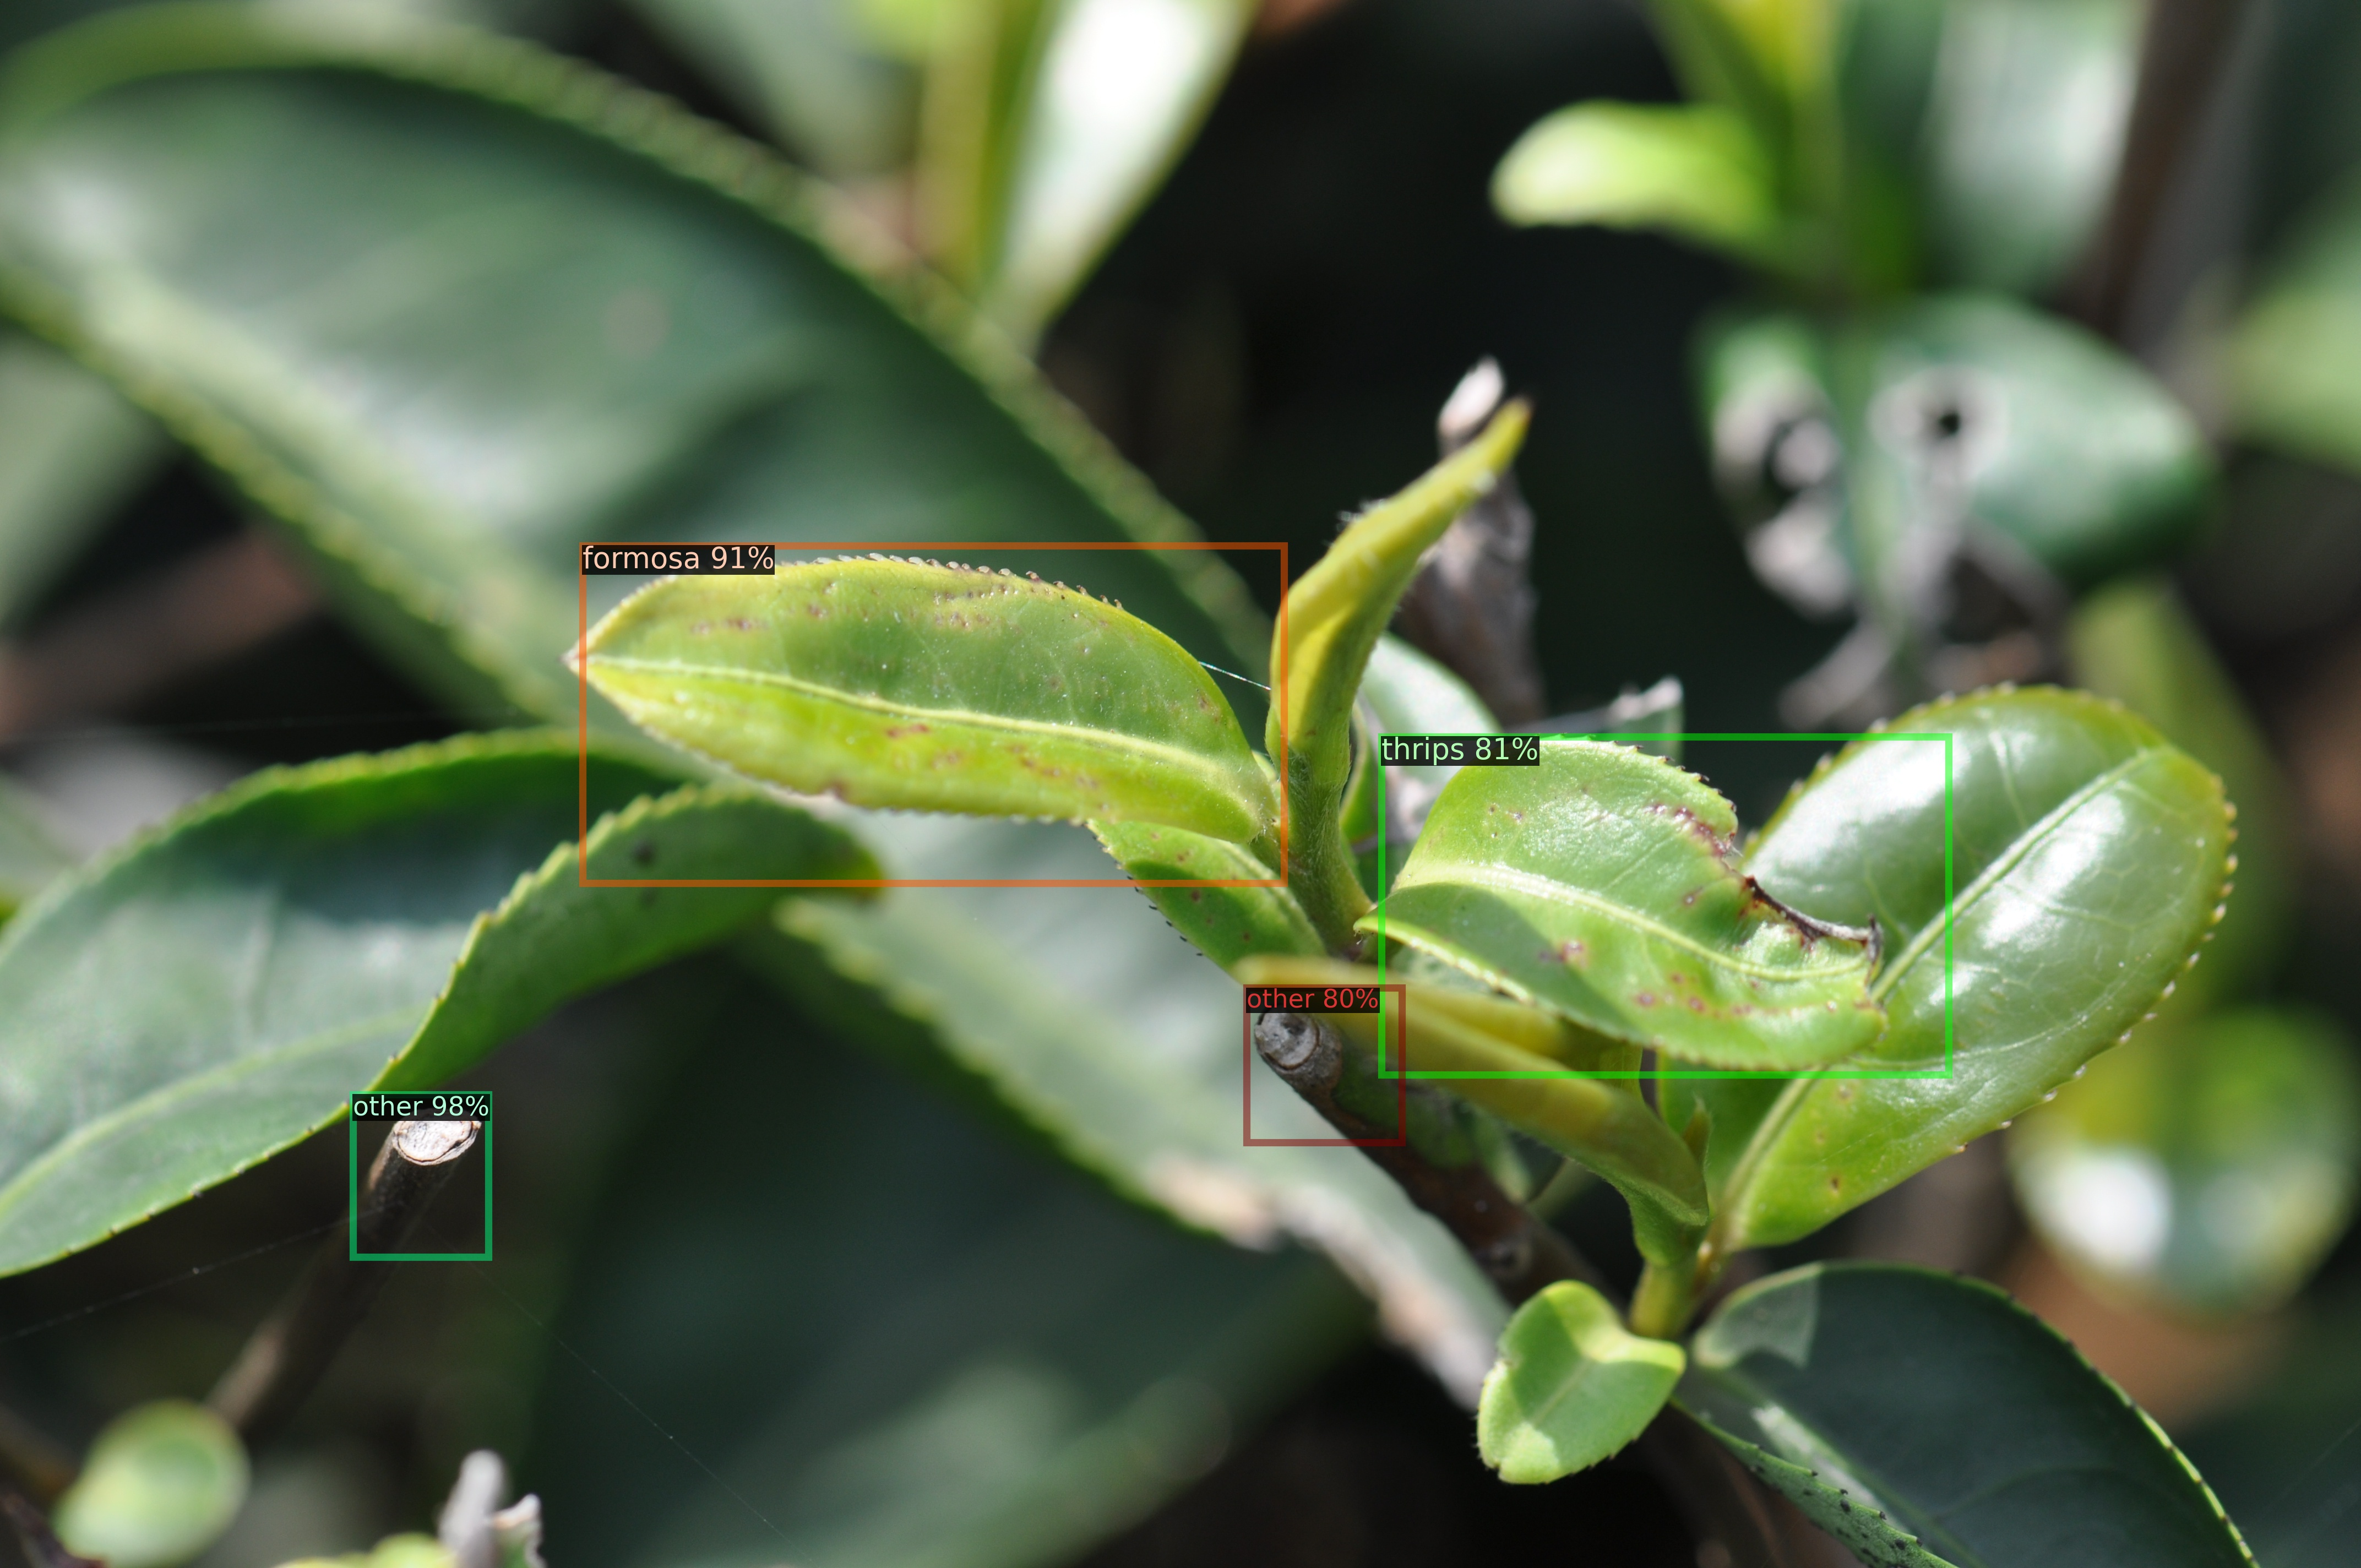formosa: (583, 546, 1285, 882)
other: (1246, 987, 1402, 1143), (352, 1094, 488, 1256)
thrips: (1381, 737, 1948, 1074)
